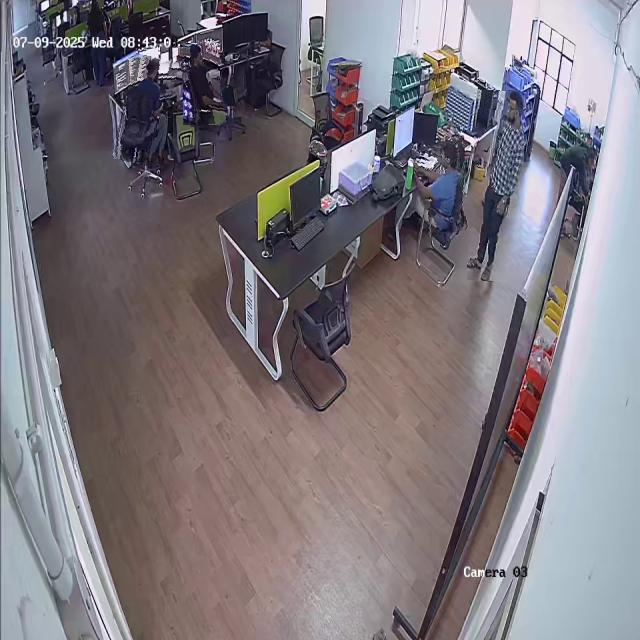person: (470, 90, 524, 282), (117, 55, 174, 166), (415, 142, 471, 235), (180, 42, 223, 126)
